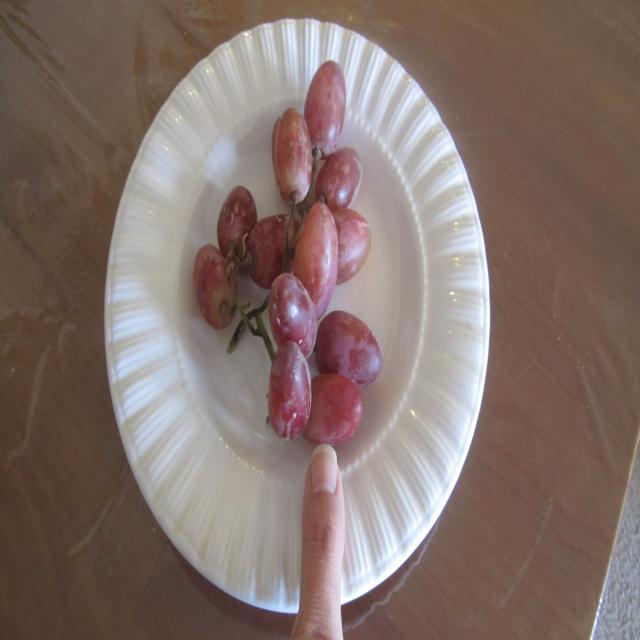Finger: (292, 443, 353, 631)
Grapes: (184, 51, 394, 446)
